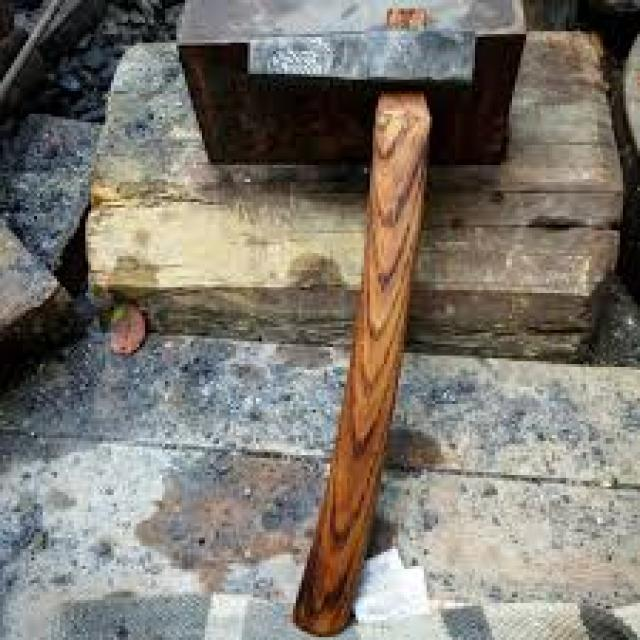hammer: (236, 0, 495, 640)
